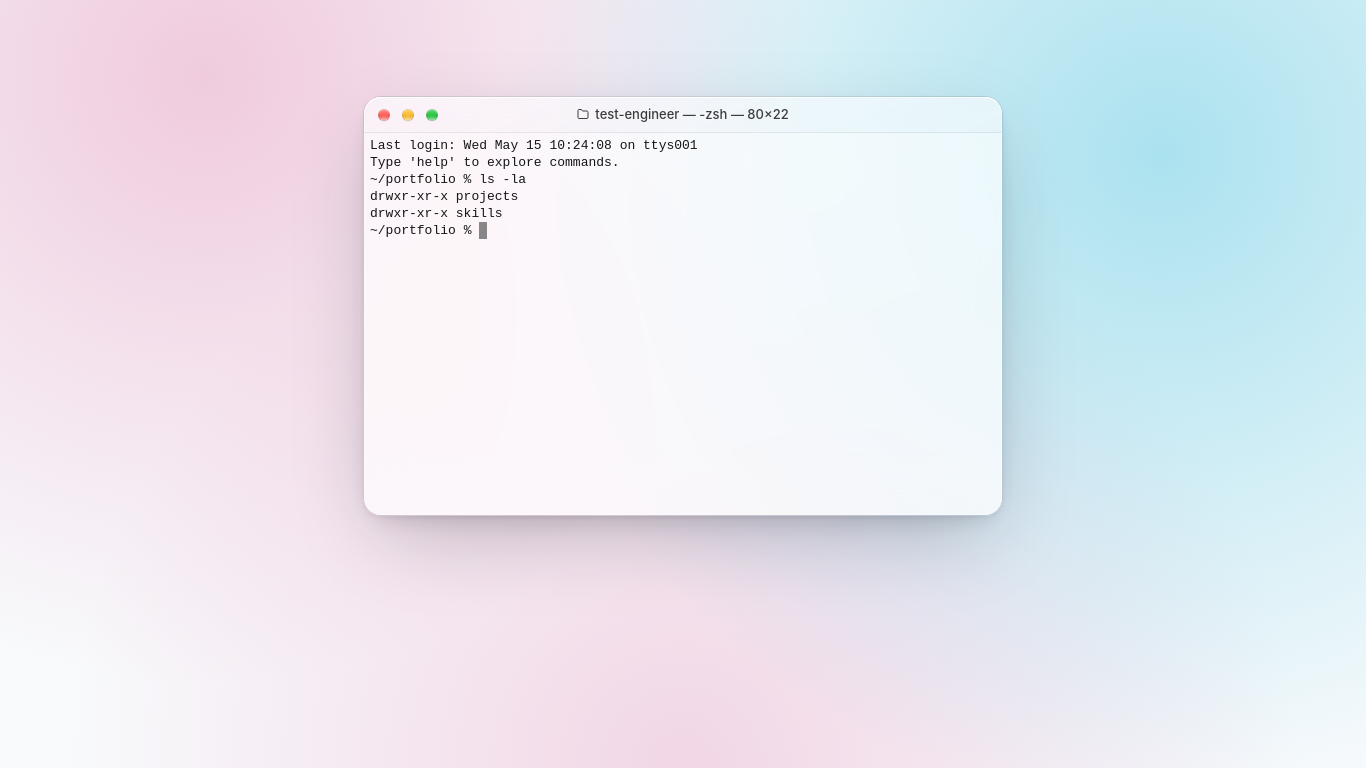
Test case: TerminalWindow › clears terminal output
The width and height of the screenshot is (1366, 768).
Type "clear" into the field named "Terminal command input" at point(738, 230), box [479,222,996,239]
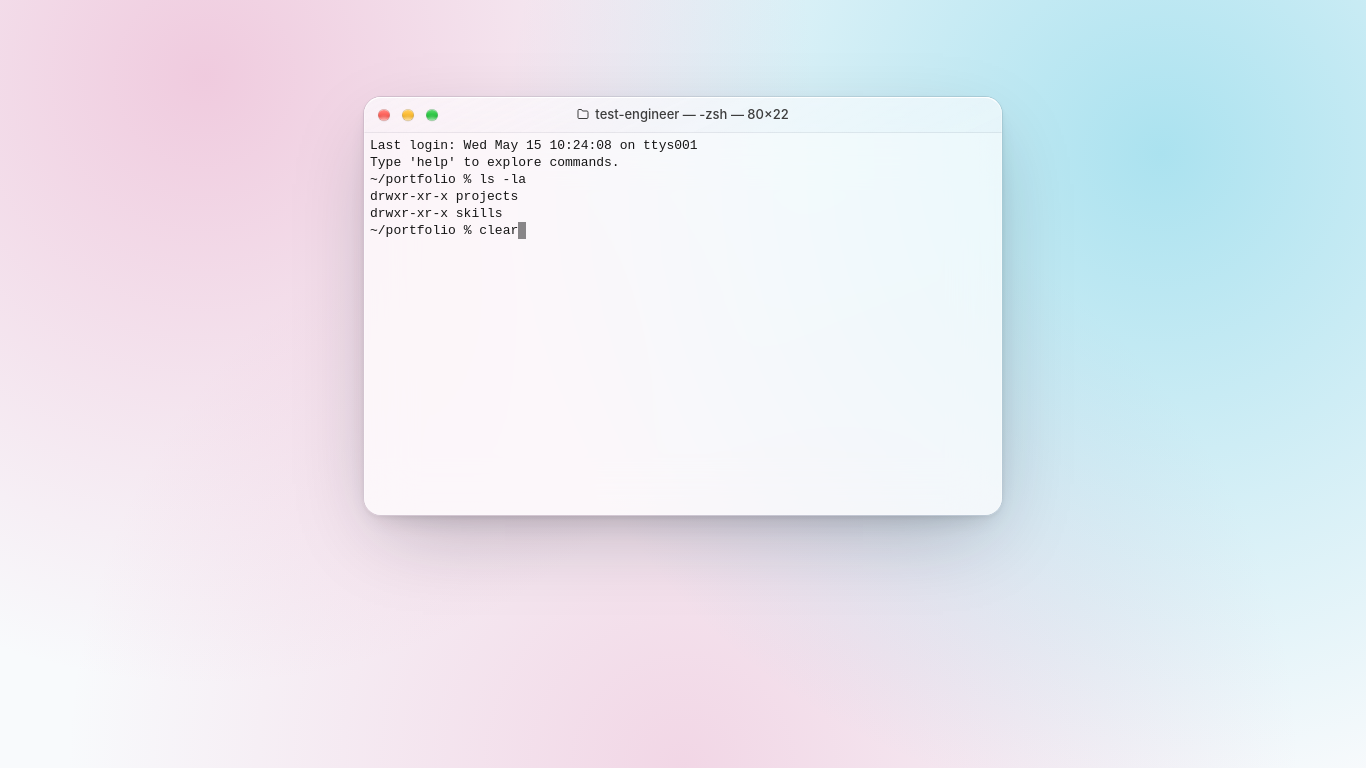
Submit the form named "Terminal command input", box [370,222,996,239]
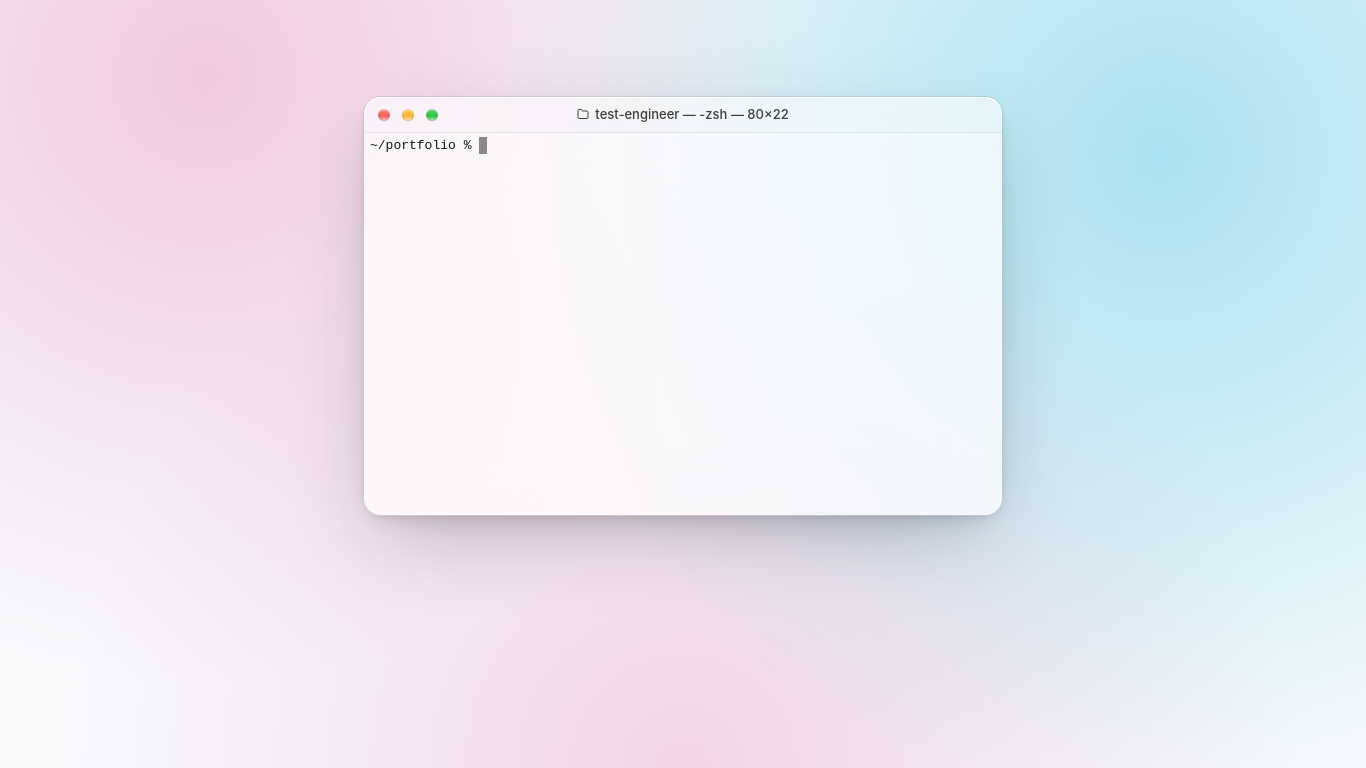
Expected: the field named "Terminal command input" is shown, [479,137,996,154]
Expected: the text "Type 'help' to explore commands." is gone
